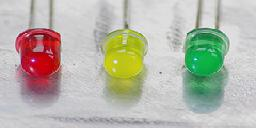LED: (181, 1, 230, 77), (100, 1, 148, 76), (11, 30, 63, 72)
